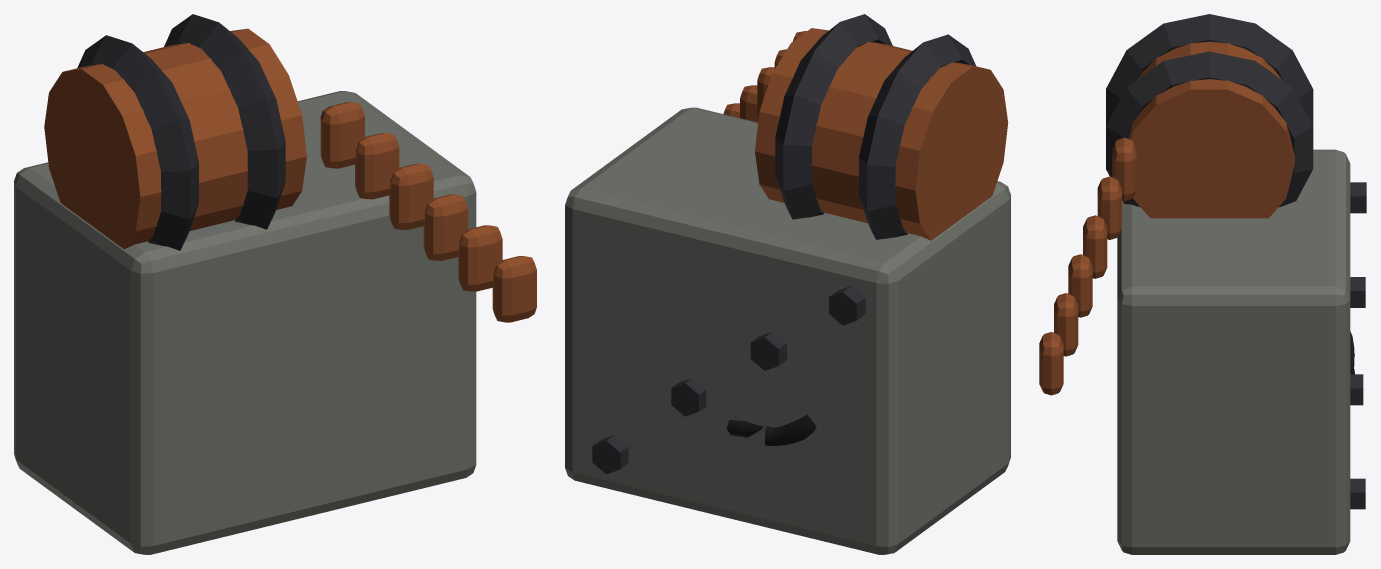
The model's file is mo_feeder.glb.
3 renders of one model, left to right at view 1: azimuth 30°, elevation 25°; view 2: azimuth 150°, elevation 25°; view 3: azimuth 270°, elevation 25°, orthographic. The views are drawn at different scales.
Parts seen in each view (by area): view 1: mo_feeder; view 2: mo_feeder; view 3: mo_feeder.
Part boxes in pixels (x1,y1,x2,y2): mo_feeder: (14, 14, 536, 554); mo_feeder: (565, 14, 1010, 554); mo_feeder: (1039, 14, 1366, 554).
Bounding box in the file's own units: 0.1299 × 0.163 × 0.1158.
